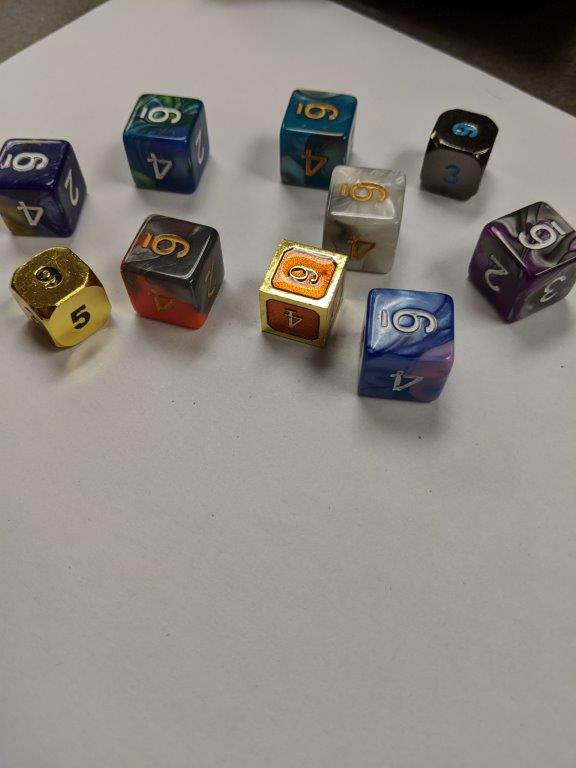d6-6: (466, 199, 576, 327), (119, 213, 227, 336), (2, 249, 115, 351), (254, 236, 348, 349), (1, 135, 91, 241), (121, 91, 211, 191), (319, 164, 404, 269), (279, 86, 357, 183), (420, 108, 501, 198)
